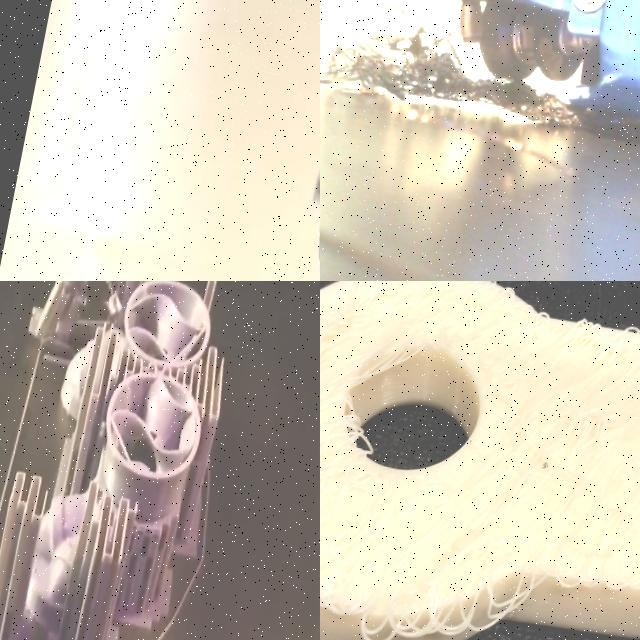spaghetti: (320, 281, 640, 640), (320, 0, 640, 182)
